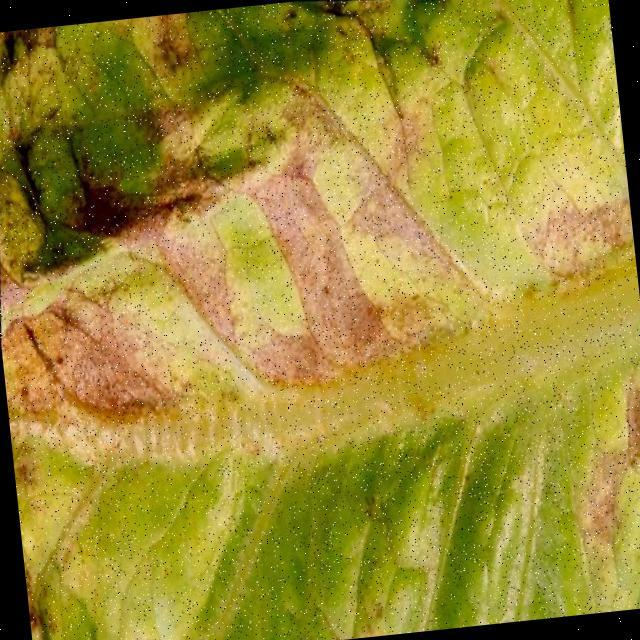Septoria_Blight: (0, 0, 394, 480)
